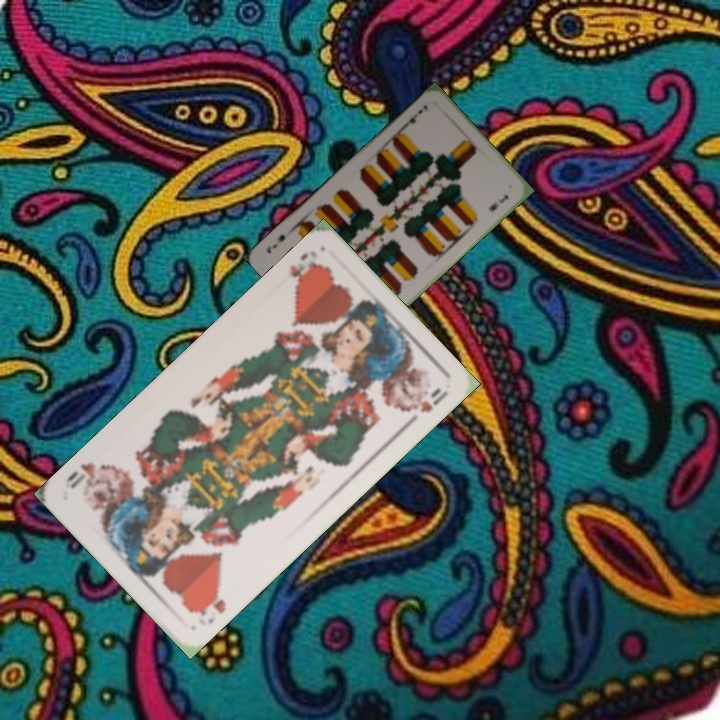E7: (399, 101, 431, 131)
HO: (285, 246, 324, 291), (188, 585, 229, 627)
